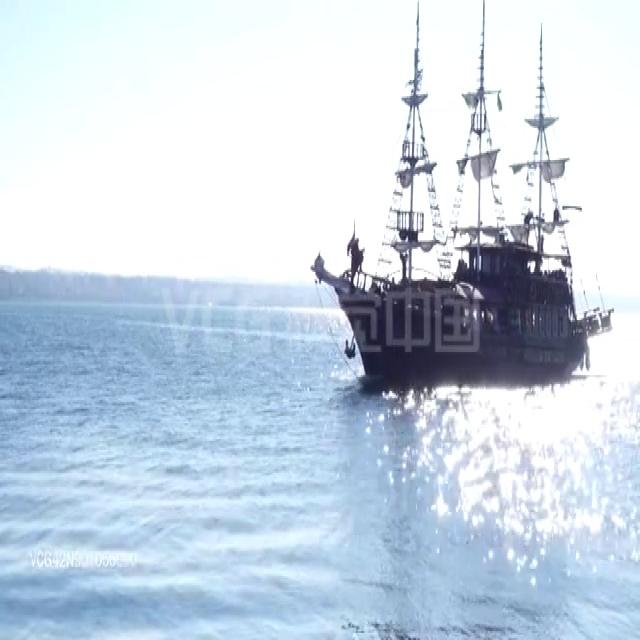sailboat: (306, 0, 607, 380)
